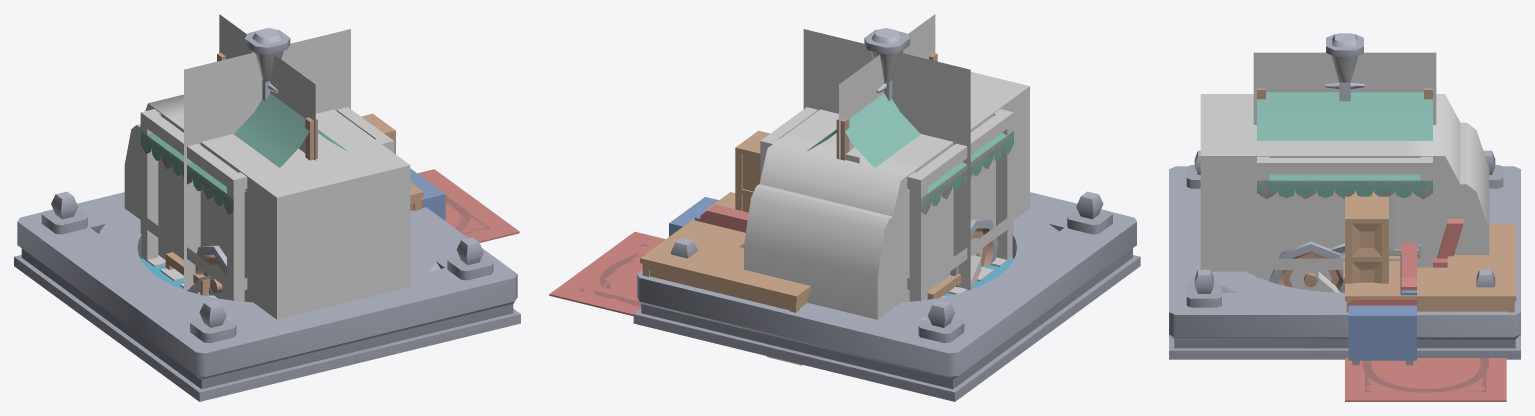
File: kenney2.glb
3 renders of one model, left to right at view 1: azimuth 30°, elevation 25°; view 2: azimuth 150°, elevation 25°; view 3: azimuth 270°, elevation 25°, orthographic. The views are drawn at different scales.
Visible parts, largest first — view 1: dorf/fountain-square-detail, retro/truck-green, retro/tree-park-large, dorf/fountain-round-detail, retro/scaffolding-structure, dorf/stall-green, retro/truck-green-cargo, retro/scaffolding-poles, mk/rugRectangle, dorf/lantern, mk/rugRounded, mk/loungeDesignSofa (+3 smaller); view 2: dorf/fountain-square-detail, retro/truck-green, retro/tree-park-large, mk/deskCorner, retro/scaffolding-structure, dorf/stall-green, dorf/fountain-round-detail, retro/truck-green-cargo, mk/rugRectangle, mk/rugRounded, retro/scaffolding-poles, mk/bookcaseClosedWide (+5 smaller); view 3: dorf/fountain-square-detail, retro/truck-green, dorf/stall-green, retro/truck-green-cargo, mk/deskCorner, retro/tree-park-large, retro/scaffolding-structure, mk/rugRounded, mk/loungeDesignSofa, mk/bookcaseClosedWide, dorf/fountain-round-detail, mk/rugRectangle (+8 smaller).
Part boxes in pixels (box(x1,y1,x2,y2)): dorf/fountain-square-detail: box(14, 191, 520, 401); retro/truck-green: box(124, 94, 410, 319); retro/tree-park-large: box(184, 14, 350, 290); dorf/fountain-round-detail: box(94, 208, 440, 360); retro/scaffolding-structure: box(140, 107, 394, 301); dorf/stall-green: box(140, 53, 347, 213); retro/truck-green-cargo: box(158, 158, 254, 303); retro/scaffolding-poles: box(141, 112, 393, 301); mk/rugRectangle: box(417, 169, 519, 242); dorf/lantern: box(244, 28, 290, 101); mk/rugRounded: box(435, 185, 488, 238); mk/loungeDesignSofa: box(410, 168, 445, 220); dorf/fountain-square-detail: box(633, 191, 1140, 401); retro/truck-green: box(744, 72, 1029, 319); retro/tree-park-large: box(803, 14, 970, 290); mk/deskCorner: box(640, 192, 810, 312); retro/scaffolding-structure: box(760, 107, 1013, 301); dorf/stall-green: box(807, 53, 1013, 213); dorf/fountain-round-detail: box(760, 208, 1060, 360); retro/truck-green-cargo: box(899, 158, 995, 303); mk/rugRectangle: box(549, 231, 665, 313); mk/rugRounded: box(581, 245, 656, 316); retro/scaffolding-poles: box(760, 112, 1013, 300); mk/bookcaseClosedWide: box(735, 130, 770, 212); dorf/fountain-square-detail: box(1169, 150, 1520, 359); retro/truck-green: box(1200, 94, 1489, 271); dorf/stall-green: box(1257, 88, 1432, 198); retro/truck-green-cargo: box(1242, 198, 1447, 291); mk/deskCorner: box(1345, 224, 1516, 312); retro/tree-park-large: box(1253, 52, 1436, 124); retro/scaffolding-structure: box(1257, 156, 1432, 281); mk/rugRounded: box(1345, 358, 1506, 394); mk/loungeDesignSofa: box(1348, 254, 1416, 365); mk/bookcaseClosedWide: box(1345, 191, 1388, 283); dorf/fountain-round-detail: box(1182, 209, 1502, 350); mk/rugRectangle: box(1345, 358, 1506, 401).
Size of the model in its own units: 2.57 by 1.83 by 2.
